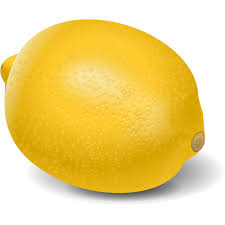lemon: (4, 14, 224, 216)
